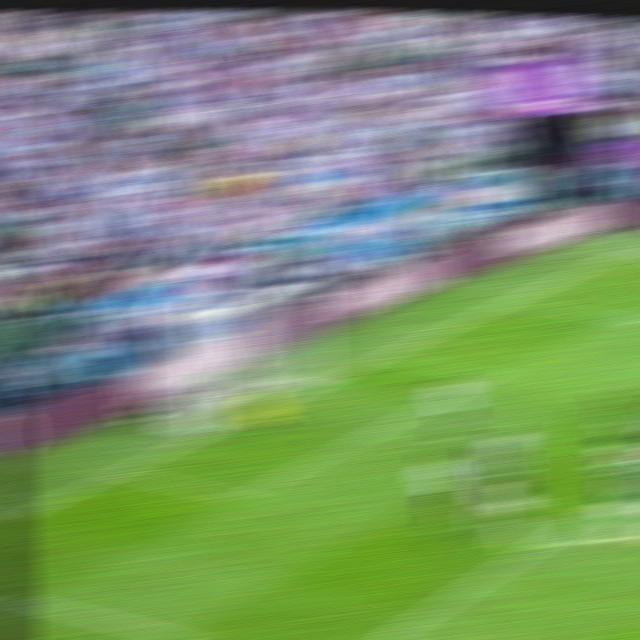bigarea_top_outter: (496, 296, 525, 308)
bottom_arc_area_intersection: (529, 531, 564, 551)
corner: (624, 238, 640, 248)
smallarea_bottom_inner: (221, 481, 261, 510)
smallarea_bottom_outter: (102, 460, 139, 482)
smallarea_top_inner: (476, 367, 509, 383)
smallarea_top_outter: (369, 347, 402, 365)
